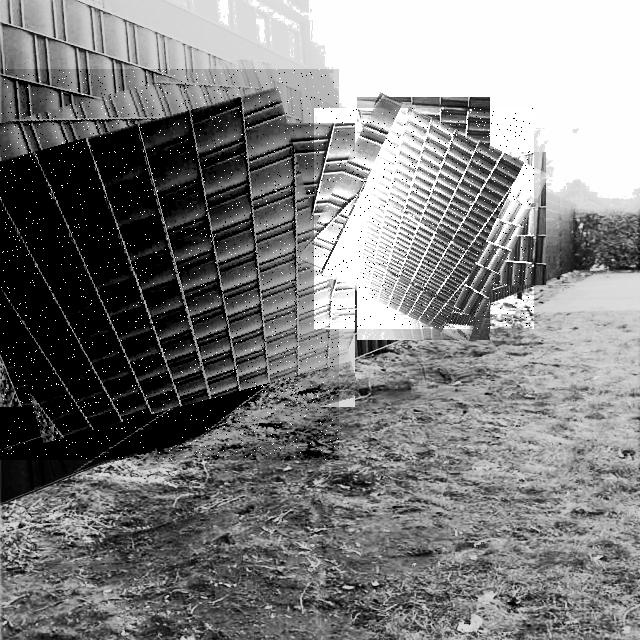fences: (0, 69, 339, 460), (314, 108, 534, 329)
